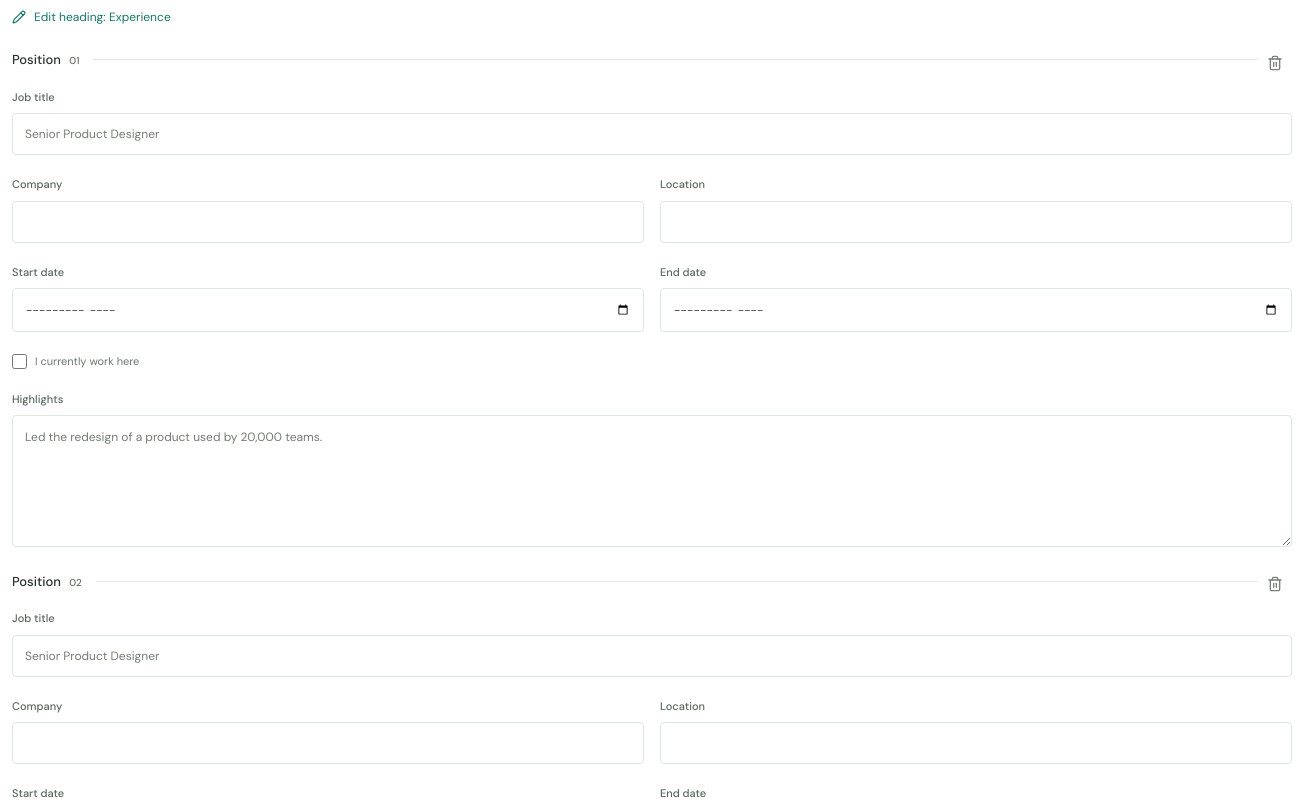
Scenario: keeps repeatable entry identity when an earlier position is removed
Type "Engineer" into the field labelled "Job title" below "02" at (652, 656), box [12,635,1292,677]
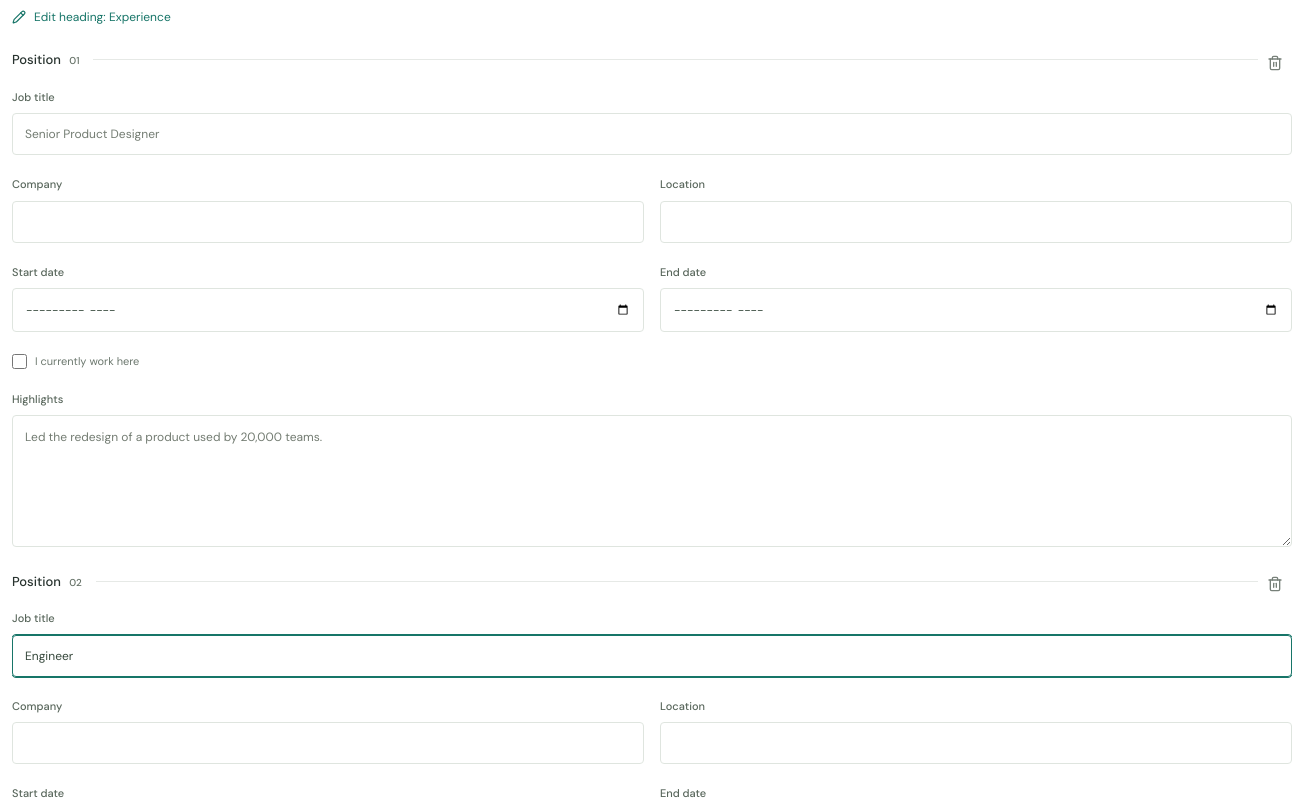
Click the button named "Remove position 1" at (1275, 62), box [1258,46,1292,80]
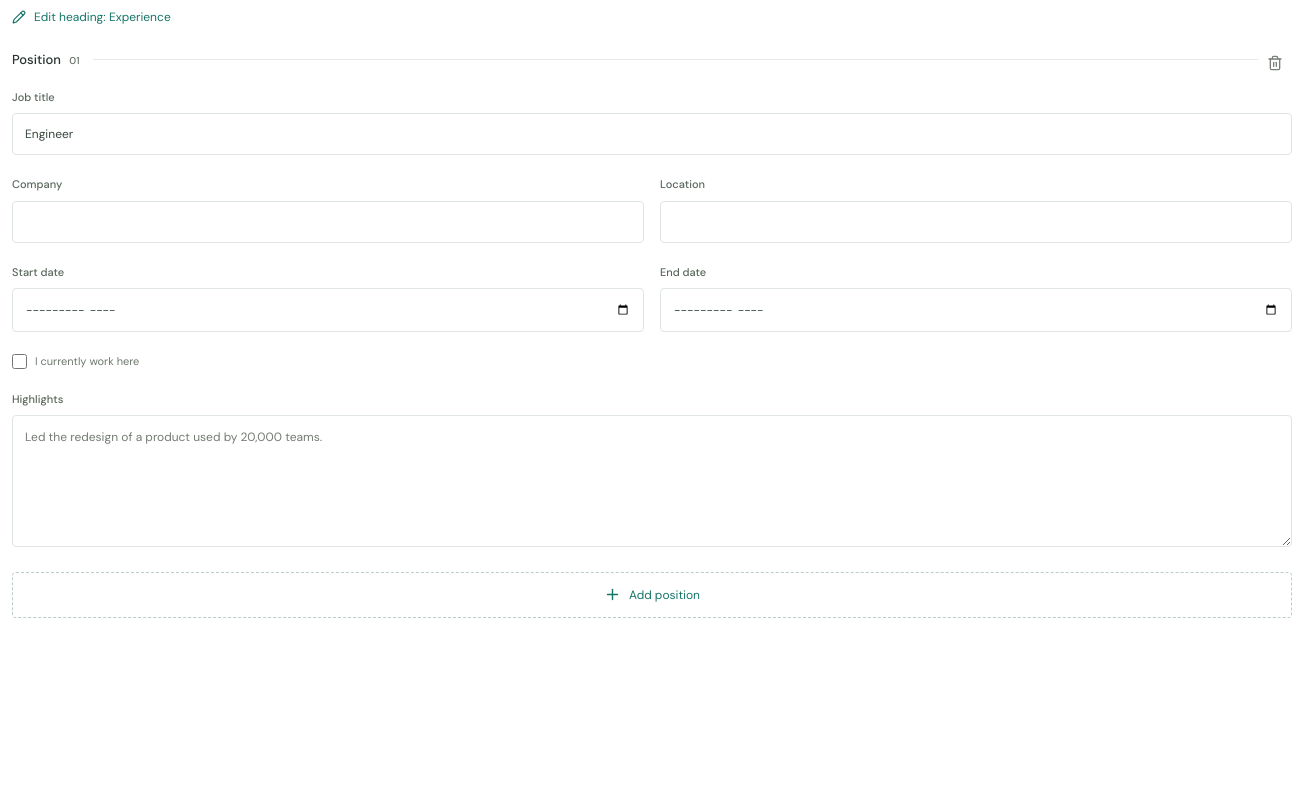
Click the checkbox labelled "I currently work here" at (20, 361), box [12,354,27,369]
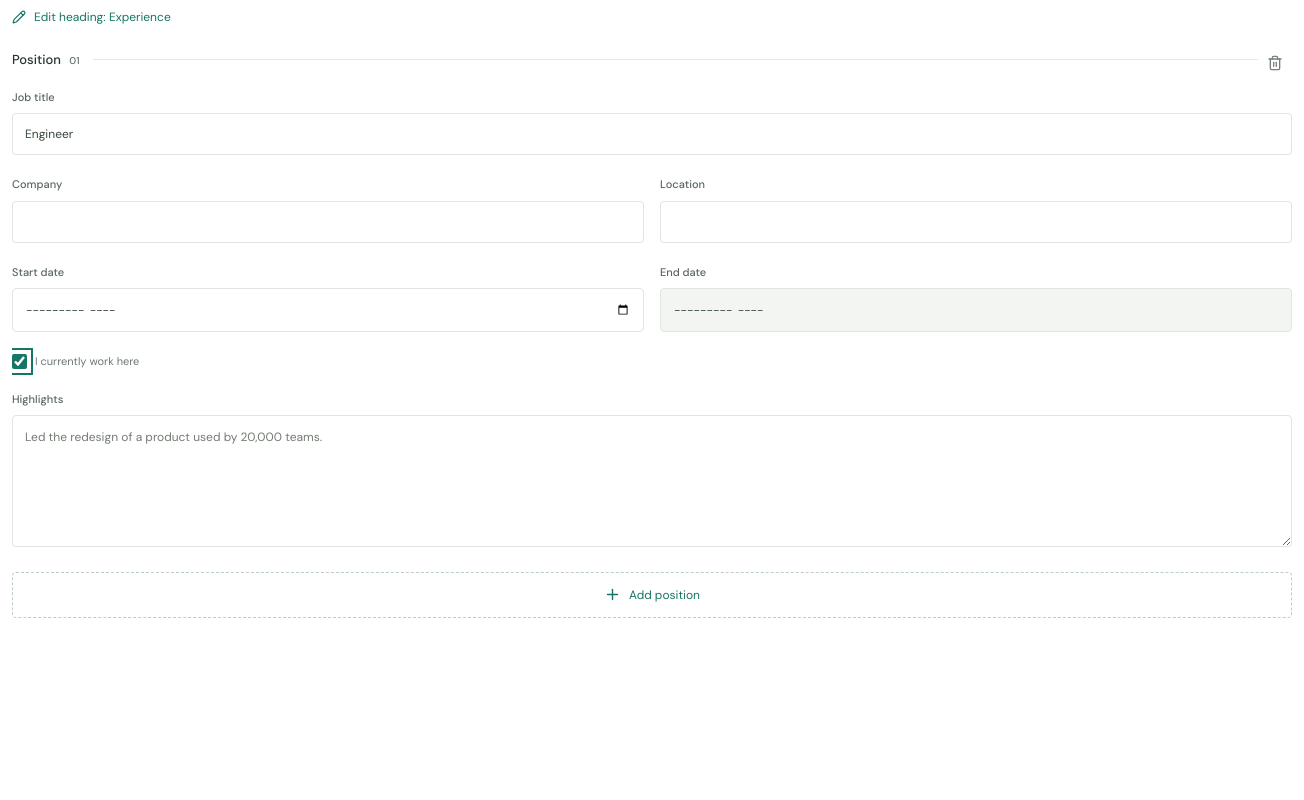
Result: the field labelled "End date" is disabled at [660,288,1292,332]
